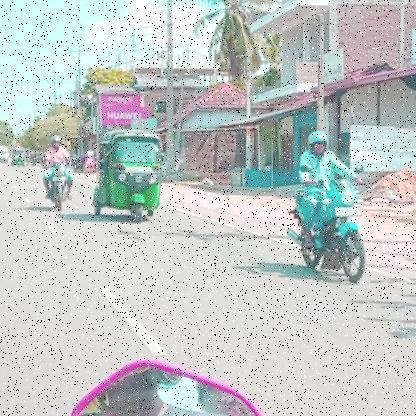motorcycle: (284, 176, 369, 286), (41, 161, 75, 215)
